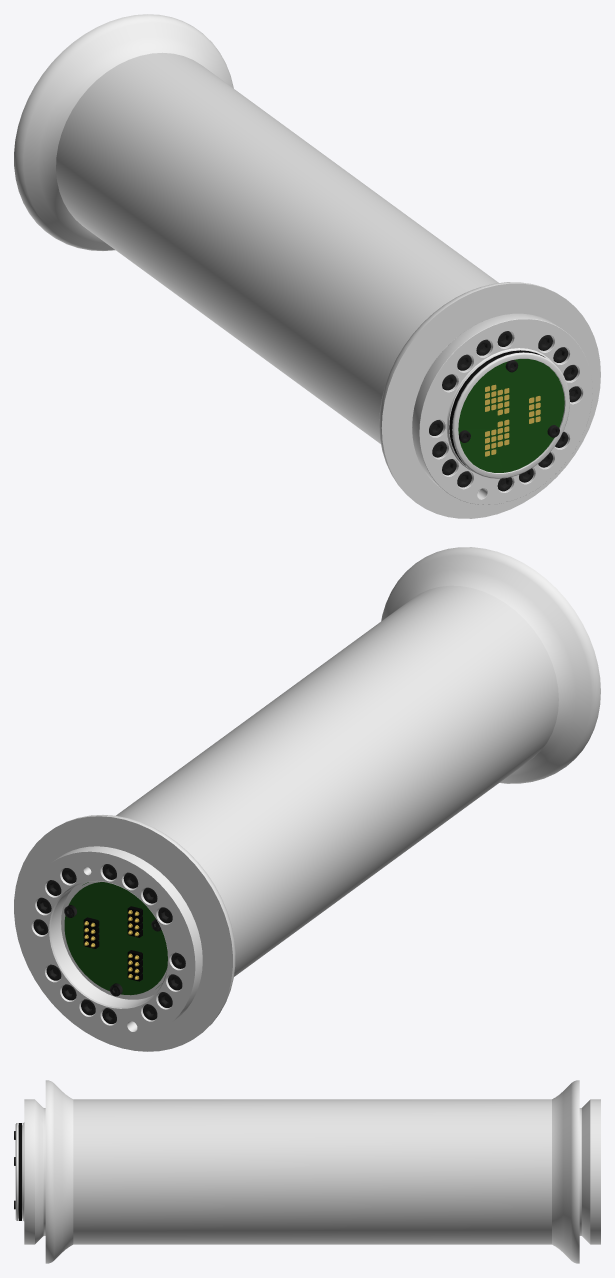
3 views of the same model, one above another, from view 1: azimuth 30°, elevation 25°; view 2: azimuth 150°, elevation 25°; view 3: azimuth 270°, elevation 25° (orthographic). The views are drawn at different scales.
Parts seen in each view (by area): view 1: I86.001; view 2: I86.001; view 3: I86.001.
Part boxes in pixels (<box>): I86.001: <box>14,14,600,518</box>; I86.001: <box>14,547,600,1051</box>; I86.001: <box>14,1080,600,1263</box>.
Size of the model in its own units: 0.086 by 0.086 by 0.2748.
